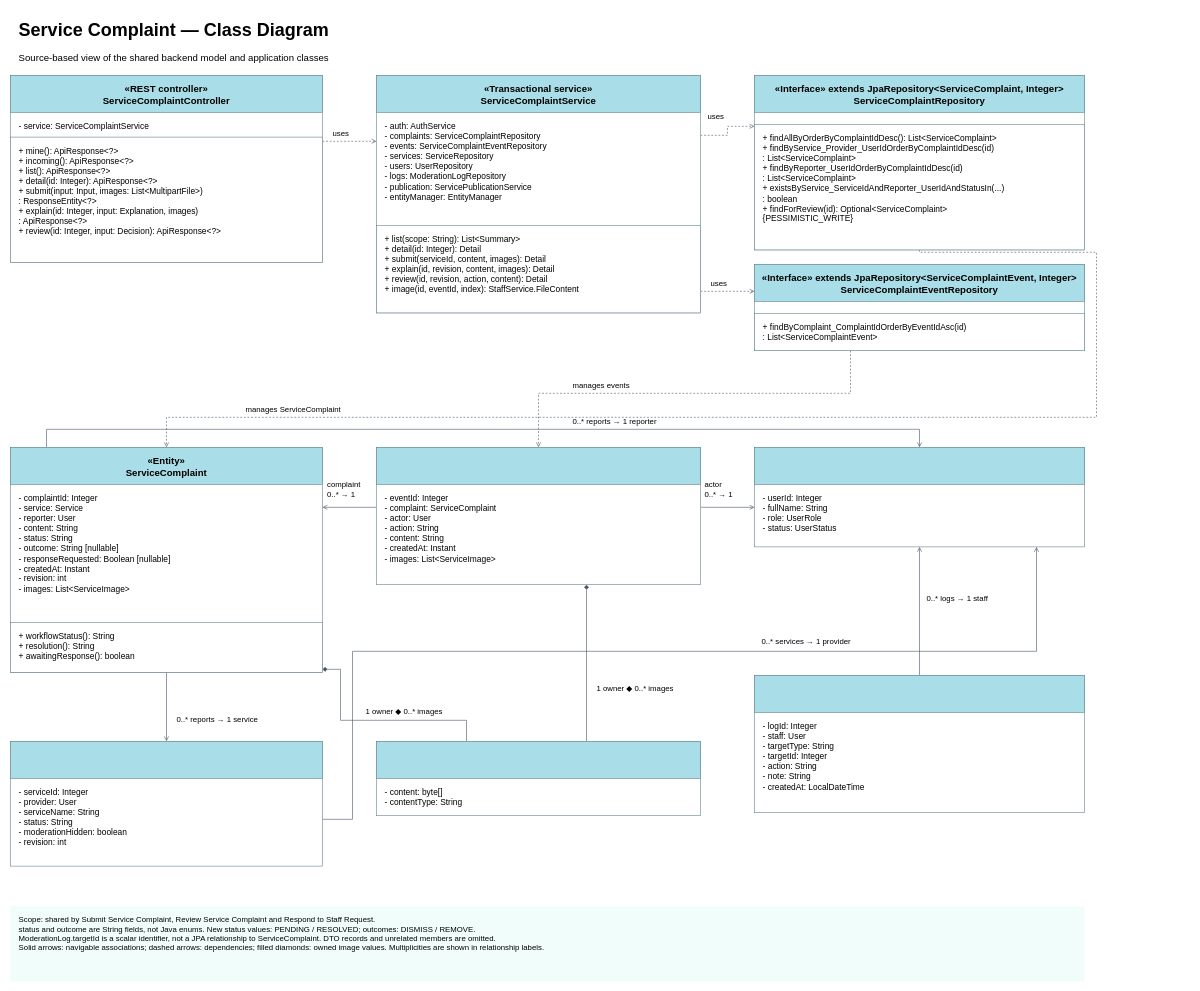
Some shapes in this 1200 by 991 pixel diagram are drawn without their labels. The centre of each missing label's shape, as x and y in pixels:
"«Embeddable value object» ServiceImage" belongs at (x=538, y=759).
"«Entity — relevant fields only» Service" belongs at (x=166, y=759).
"«Entity — relevant fields only» User" belongs at (x=919, y=465).
"«Entity» ModerationLog" belongs at (x=919, y=693).
"«Entity» ServiceComplaintEvent" belongs at (x=538, y=465).
